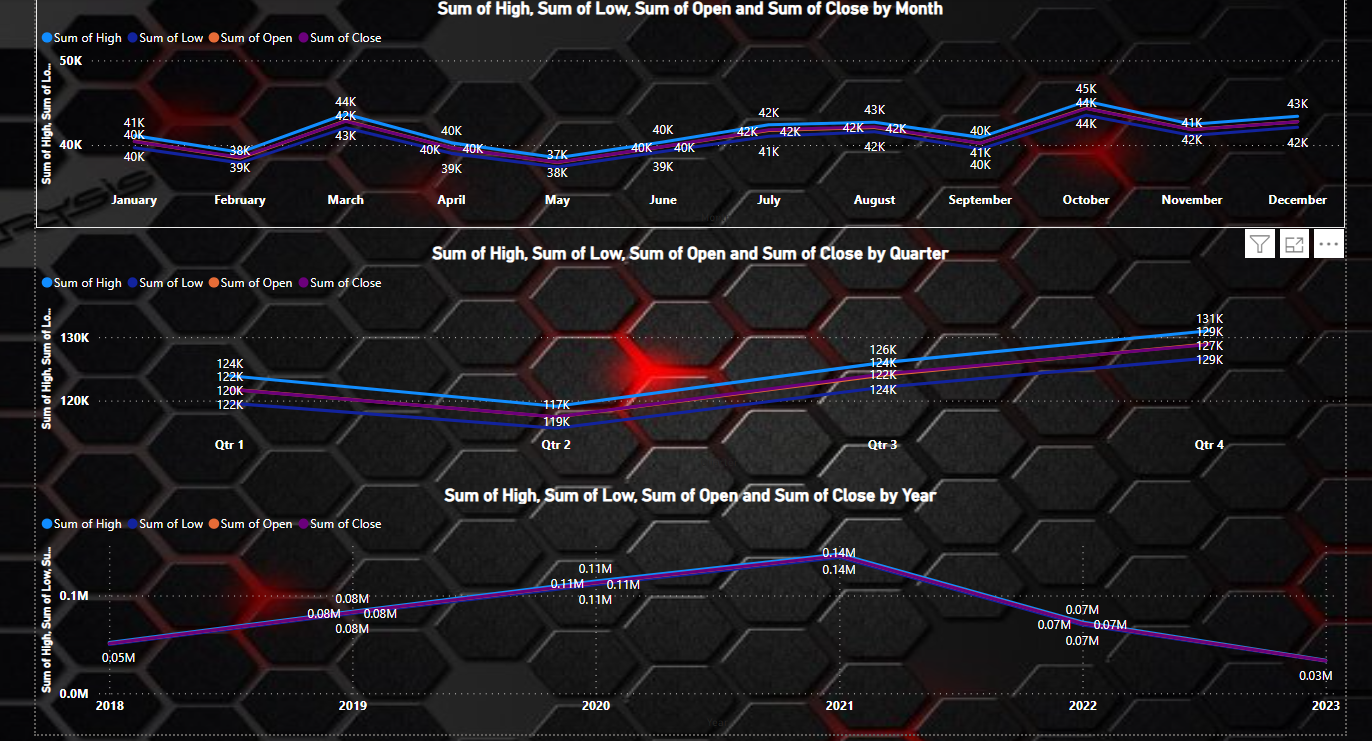

The page's visual inventory and layout, read from the dashboard file:
{"tool":"powerbi","page":{"name":"Page 2","canvas":[1280,720],"ordinal":1},"visuals":[{"type":"lineChart","fields":{"Y":["Sum(Netflix.High)","Sum(Netflix.Low)","Sum(Netflix.Open)","Sum(Netflix.Close)"],"Category":["Netflix.Date.Variation.Date Hierarchy.Quarter"]},"box":[0,239.6,1279.9,224.9],"z":0},{"type":"lineChart","fields":{"Y":["Sum(Netflix.High)","Sum(Netflix.Low)","Sum(Netflix.Open)","Sum(Netflix.Close)"],"Category":["Netflix.Date.Variation.Date Hierarchy.Month"]},"box":[0,0,1279.9,224.9],"z":1000},{"type":"lineChart","fields":{"Y":["Sum(Netflix.High)","Sum(Netflix.Low)","Sum(Netflix.Open)","Sum(Netflix.Close)"],"Category":["Netflix.Date.Variation.Date Hierarchy.Year"]},"box":[0,475.5,1279.9,244.5],"z":2000}]}

Visuals, with their boxes on the page's 1280x720 design canvas (x1, y1, x2, y2). These are canvas units, not pixel positions in the 1372x741 screenshot, which may show the page scaled, cropped or inside an application window:
lineChart - Sum(Netflix.High) x Sum(Netflix.Low): [left=0, top=240, right=1280, bottom=464]
lineChart - Sum(Netflix.High) x Sum(Netflix.Low): [left=0, top=0, right=1280, bottom=225]
lineChart - Sum(Netflix.High) x Sum(Netflix.Low): [left=0, top=476, right=1280, bottom=720]
